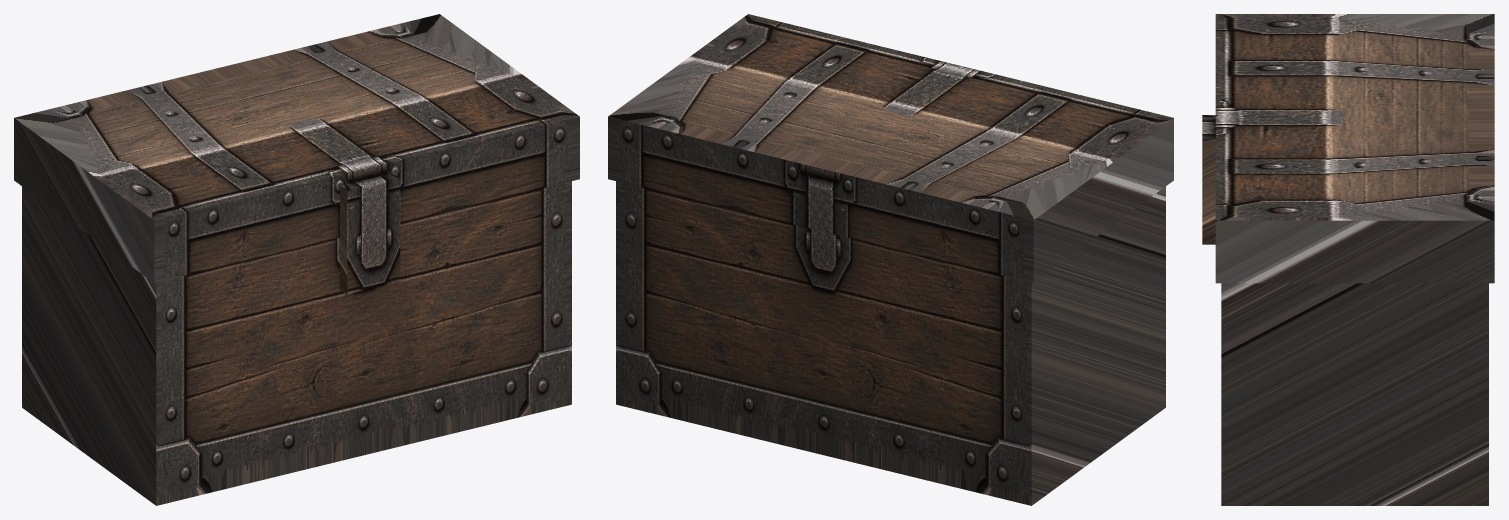
File: v3-guard-post-evidence-chest.glb
The picture shows the model from 3 angles, left to right: view 1: azimuth 30°, elevation 25°; view 2: azimuth 150°, elevation 25°; view 3: azimuth 270°, elevation 25°; orthographic projection.
Visible parts, largest first — view 1: v3-guard-post-evidence-chest; view 2: v3-guard-post-evidence-chest; view 3: v3-guard-post-evidence-chest.
Part boxes in pixels (x1,y1,x2,y2): v3-guard-post-evidence-chest: [14, 14, 579, 505]; v3-guard-post-evidence-chest: [608, 14, 1173, 505]; v3-guard-post-evidence-chest: [1202, 14, 1494, 505].
Bounding box in the file's own units: 1.28 × 0.83 × 0.765.
1 material, 1 textured.
